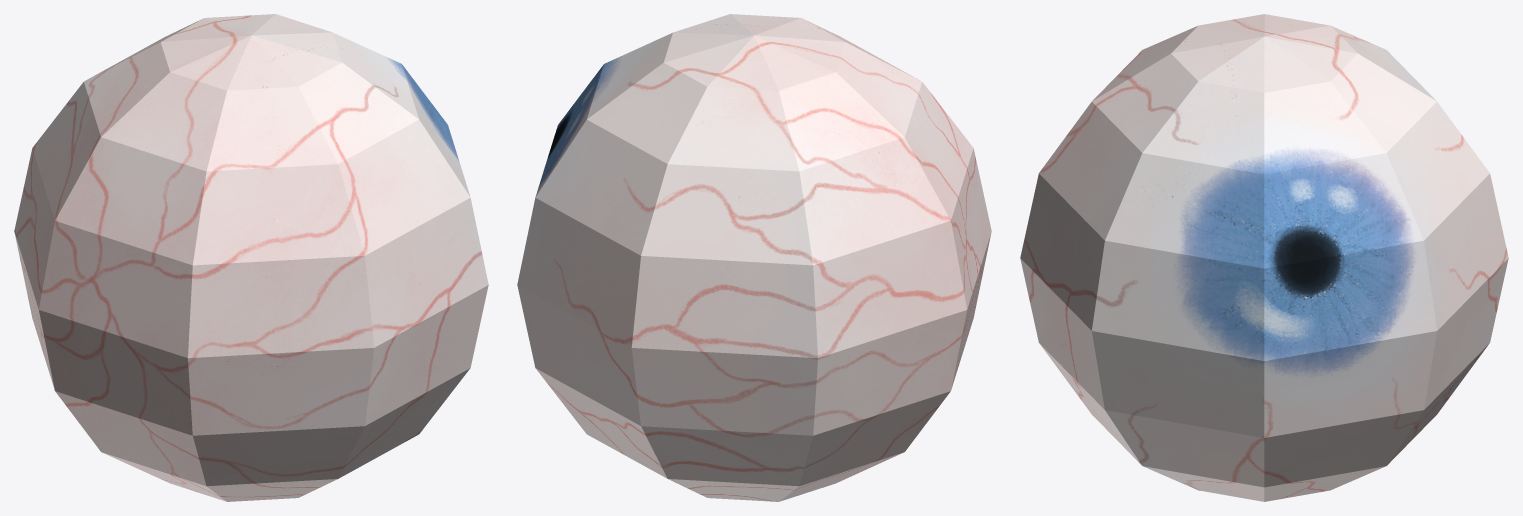
File: Eyeball.obj
The picture shows the model from 3 angles, left to right: view 1: azimuth 30°, elevation 25°; view 2: azimuth 150°, elevation 25°; view 3: azimuth 270°, elevation 25°; orthographic projection.
Parts seen in each view (by area): view 1: UV_Sphere_UV_Sphere; view 2: UV_Sphere_UV_Sphere; view 3: UV_Sphere_UV_Sphere.
Boxes of the visible parts, <box> form: UV_Sphere_UV_Sphere: <box>14,14,488,501</box>; UV_Sphere_UV_Sphere: <box>517,14,991,501</box>; UV_Sphere_UV_Sphere: <box>1020,14,1508,501</box>.
Bounding box in the file's own units: 1 × 1 × 1.
Materials: 1 (1 with a texture image).
